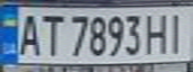3: (124, 11, 145, 56)
7: (66, 11, 90, 57)
8: (87, 12, 109, 57)
9: (106, 12, 127, 57)
A: (12, 10, 42, 56)
H: (142, 10, 172, 55)
I: (163, 9, 193, 55)
T: (36, 11, 66, 56)
